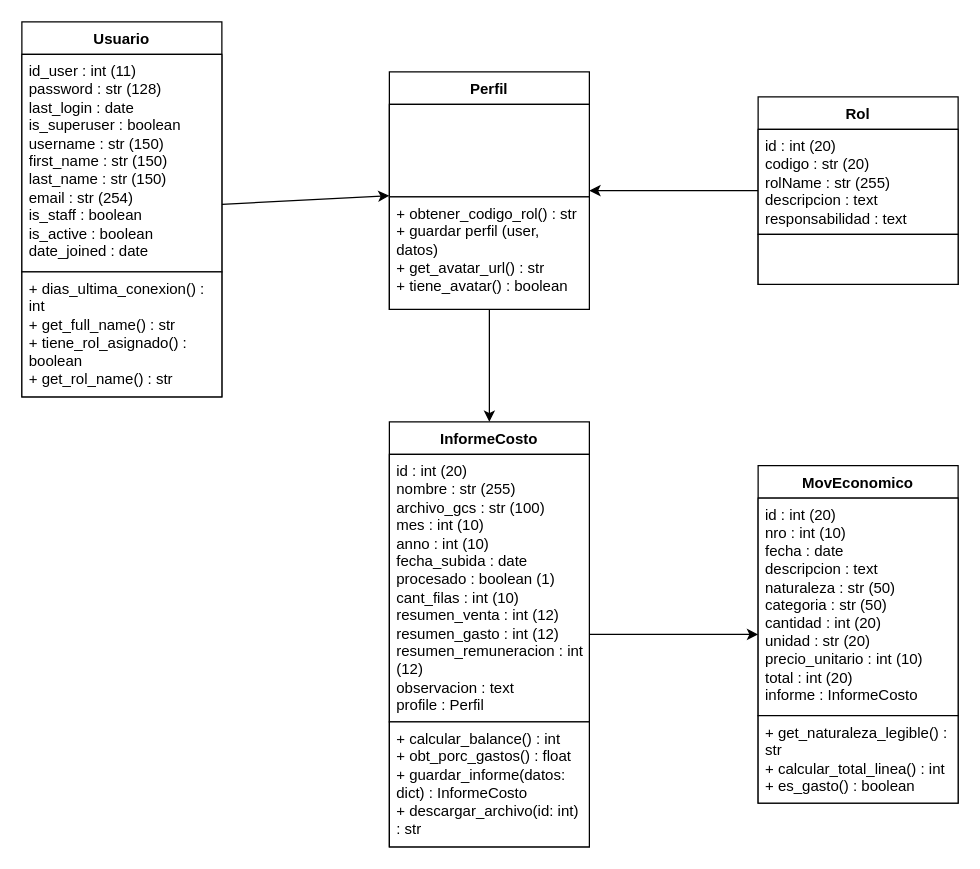
Image size: 980x869. Some labels were removed from this diagram. The shapes that lost their labels are listed below. From the top down, each one's centre as x and y in pixels, then its label:
At point (488, 150): "id : int (20) avatar : file rolsito : Rol user : Usuario".
At point (857, 258): "+ es_codigo(codigo: str) : boolean".
